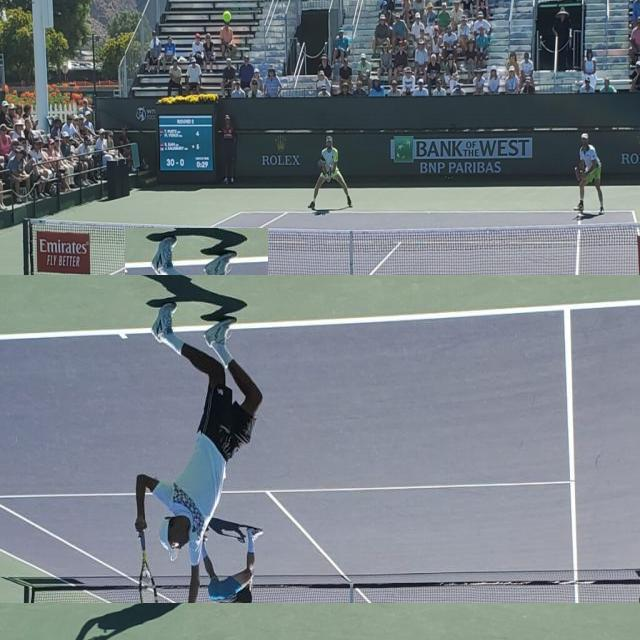court: (0, 275, 640, 603)
net: (26, 210, 640, 301)
player: (125, 228, 268, 584)
